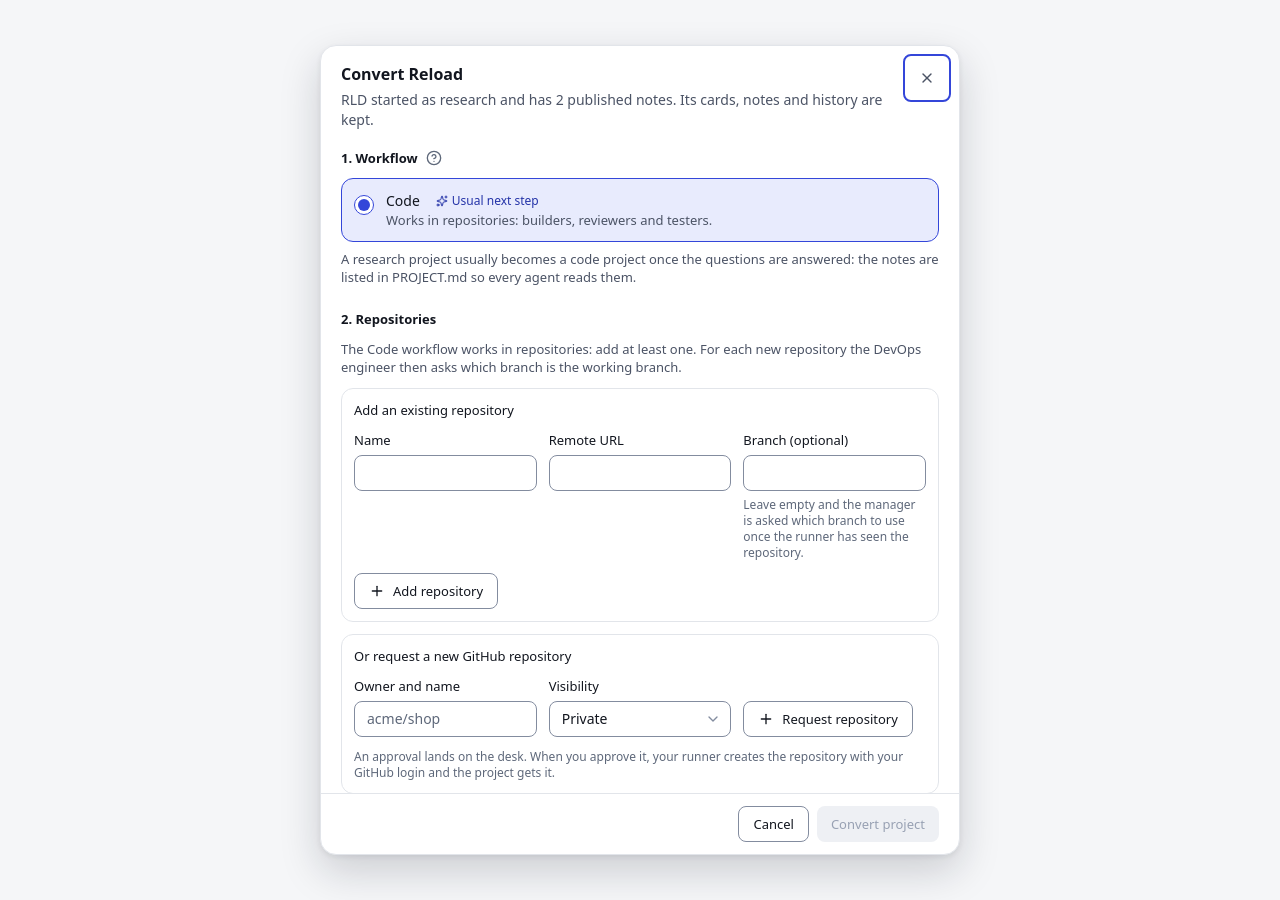
convert dialog › rejects a bad repository name and URL before asking the server
The image size is (1280, 900).
Click the button with test id "convert-repo-add".
click(426, 591)  # box [354,573,498,609]
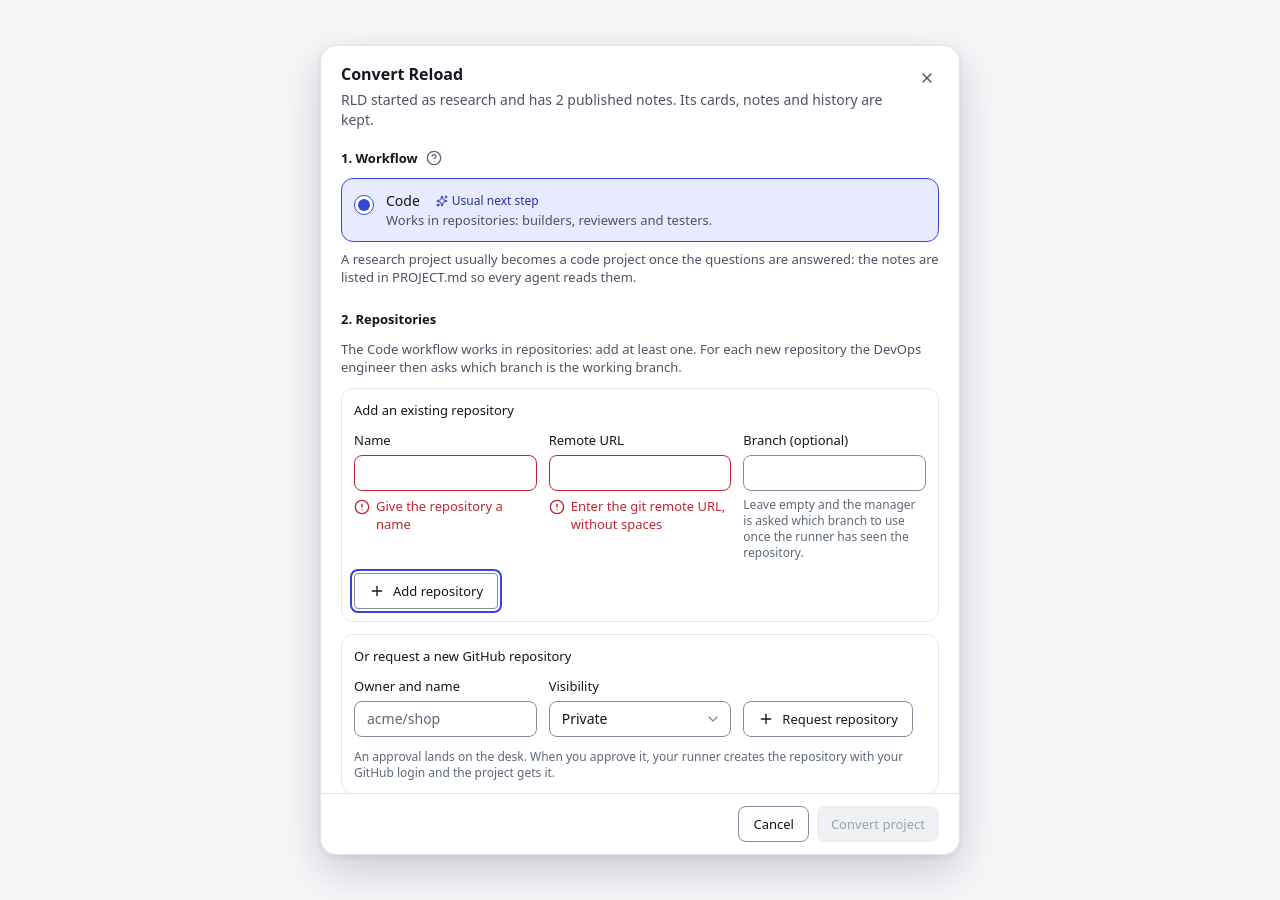
Expected: the text "Give the repository a name" is shown, [354,497,503,533]
Expected: the text "Enter the git remote URL, without spaces" is shown, [549,497,731,533]
Type "noslash" into the field with test id "convert-new-name".
click(445, 719); type("noslash")  # box [354,701,537,737]
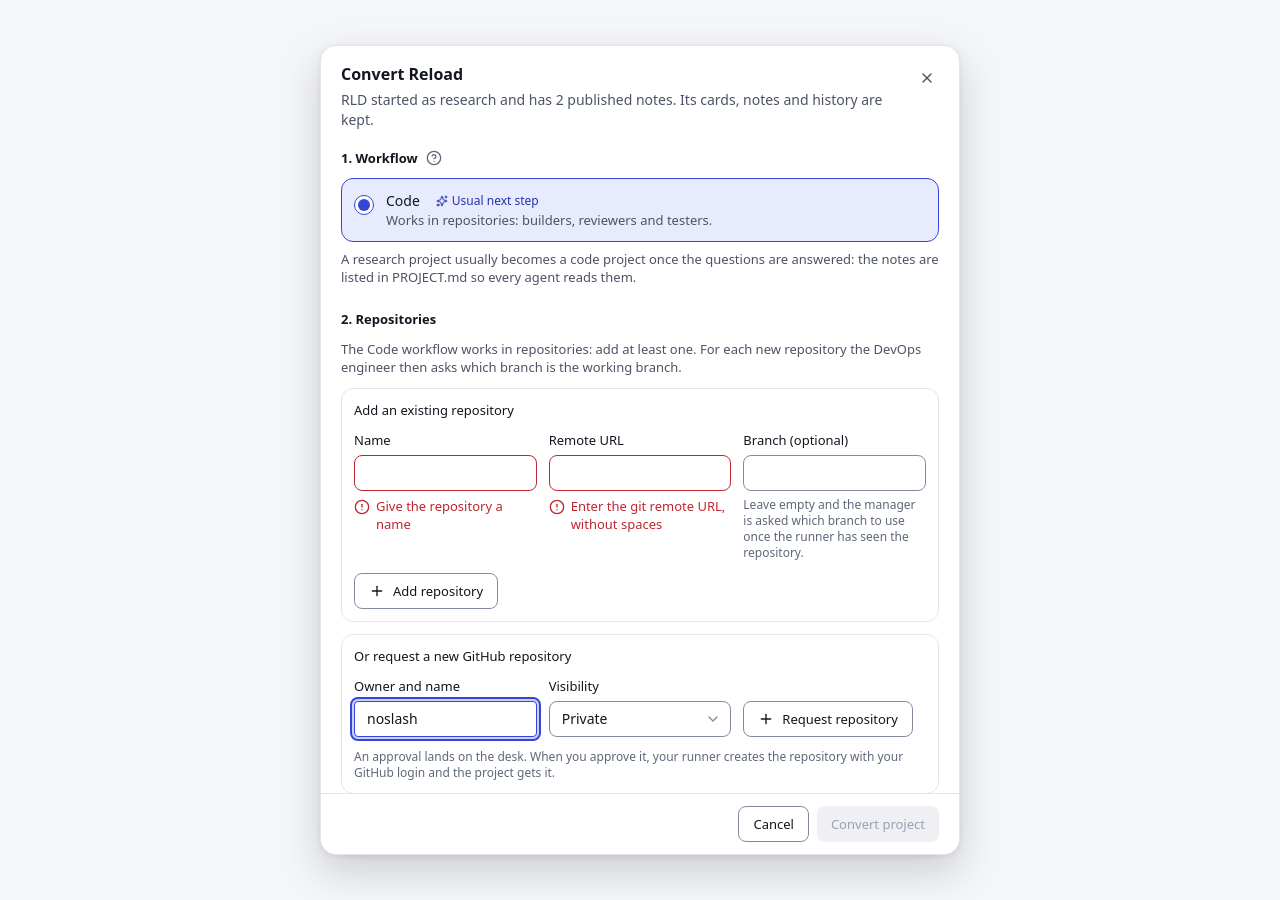
Click the button with test id "convert-new-add".
click(828, 719)  # box [743,701,913,737]
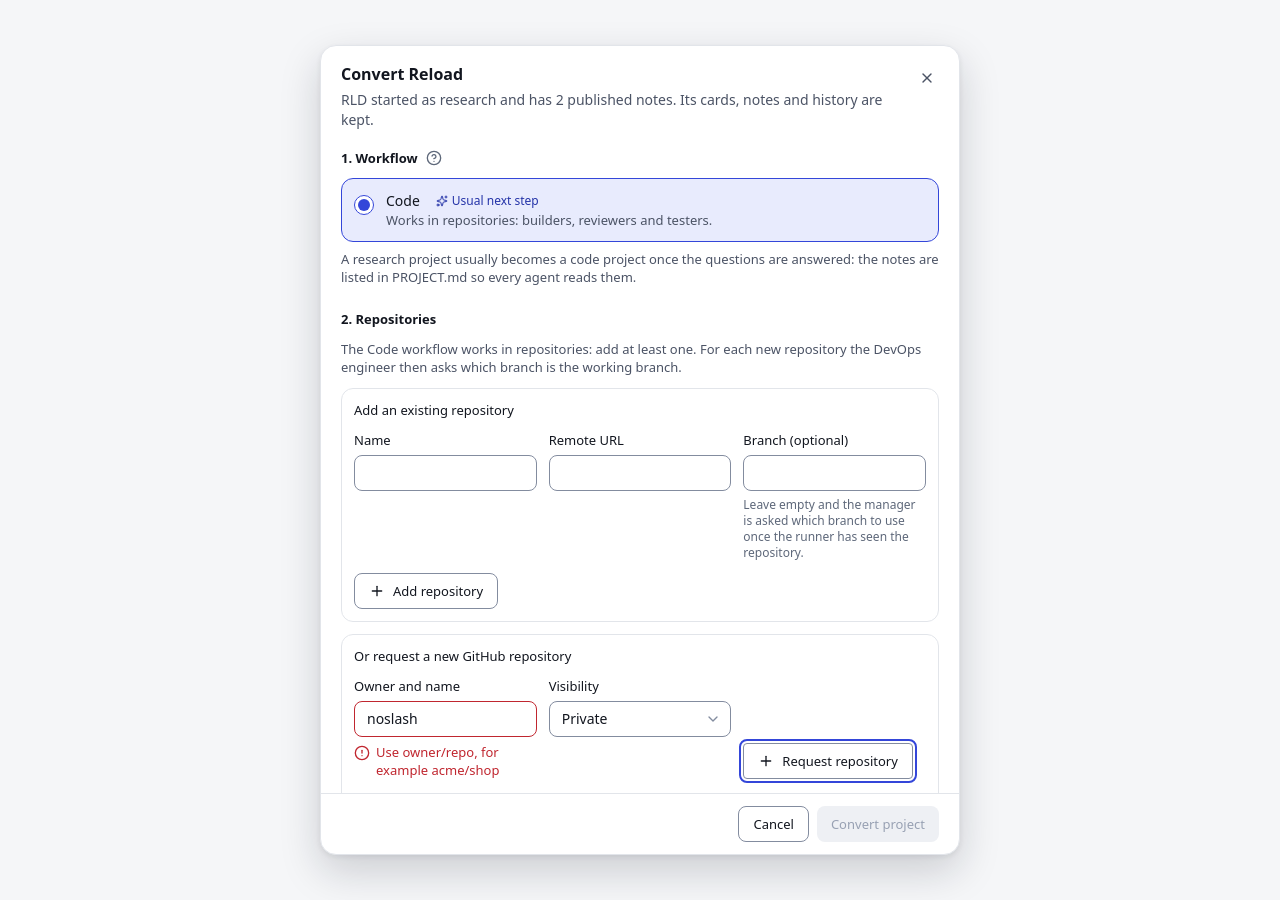
Expected: the button with test id "convert-submit" is disabled, [817,806,939,842]
Expected: the text "Use owner/repo, for example acme/shop" is shown, [354,743,499,779]
